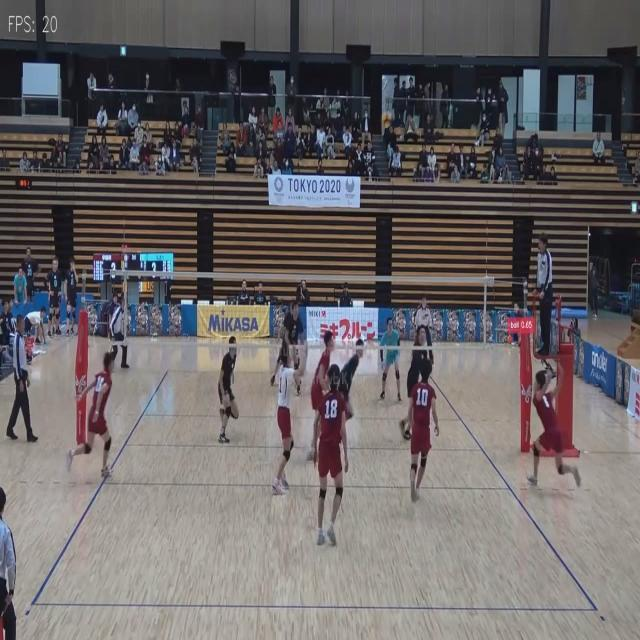volleyball: (381, 112, 393, 128)
